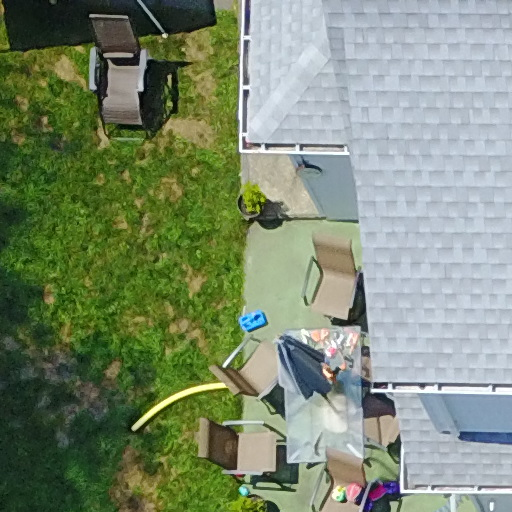pot: (231, 178, 280, 230)
toy: (231, 303, 274, 333), (328, 484, 348, 503)
